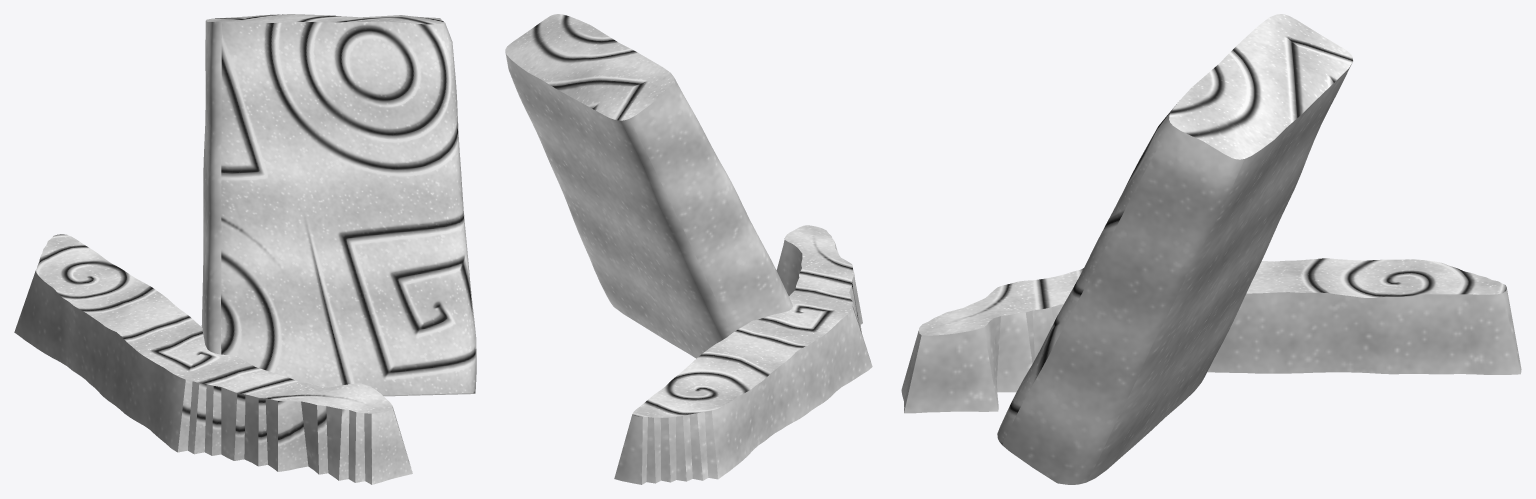
The model's file is CREHenge12.glb.
3 views of the same model, side by side, from view 1: azimuth 30°, elevation 25°; view 2: azimuth 150°, elevation 25°; view 3: azimuth 270°, elevation 25° (orthographic). The views are drawn at different scales.
Visible parts, largest first — view 1: CREHenge12_tops; view 2: CREHenge12_tops; view 3: CREHenge12_tops.
Part boxes in pixels (x1,y1,x2,y2): CREHenge12_tops: (14, 14, 476, 484); CREHenge12_tops: (505, 14, 872, 484); CREHenge12_tops: (901, 14, 1521, 484).
Bounding box in the file's own units: 2.05 × 2.02 × 2.95.
2 materials, 2 textured.
